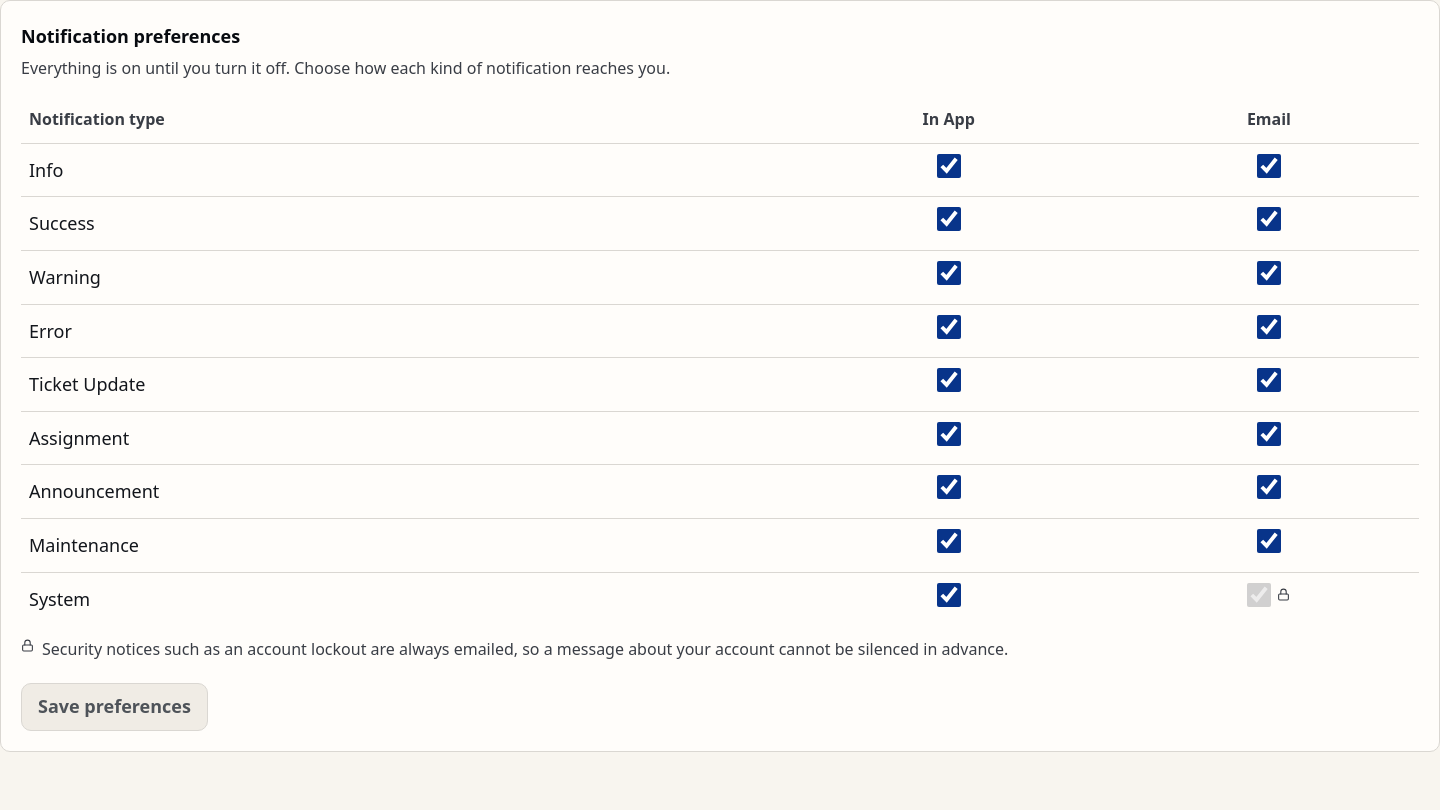
it: saving › confirms the save and clears the pending changes
Step 1. Click the 2nd checkbox named "Email notifications for Info" → (1269, 166), box [1257,154,1281,178]
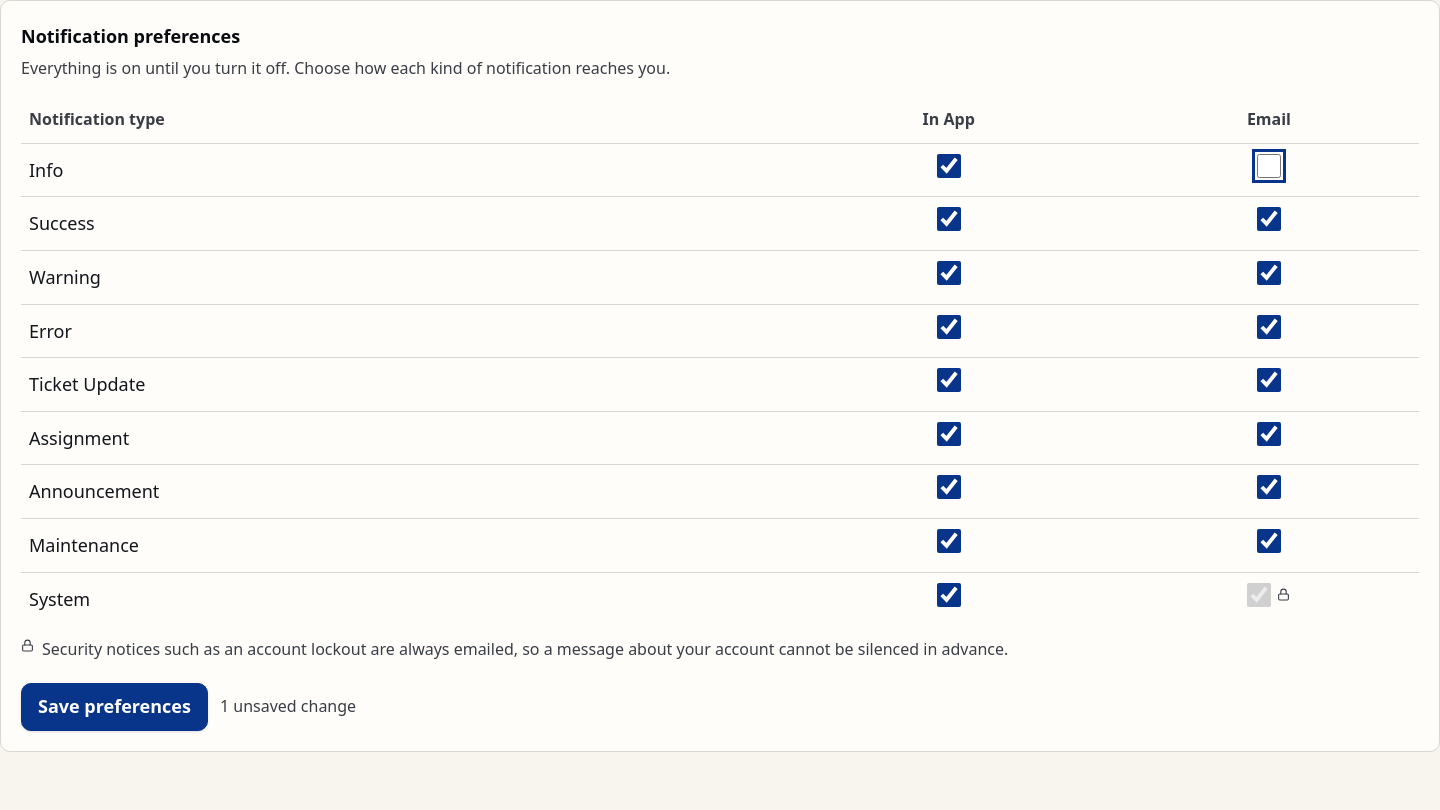
Step 2. Click the button "Save preferences" → (114, 707), box [21,683,208,731]
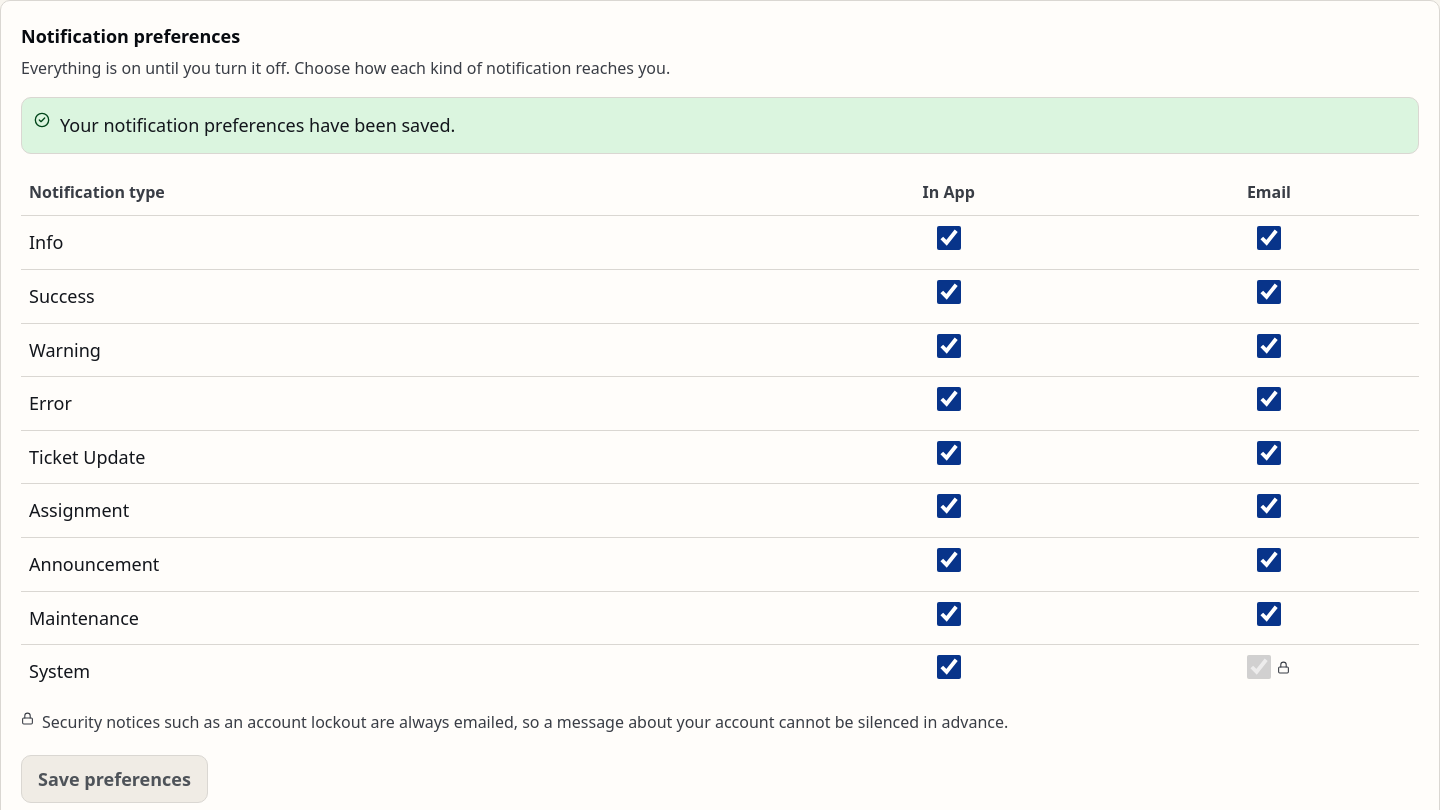
Result: the text "Your notification preferences have been saved." is shown at [60,110,455,141]
Result: the button "Save preferences" is disabled at [21,755,208,803]
